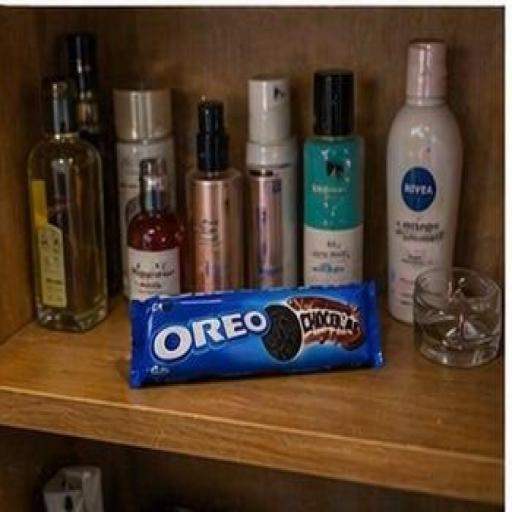oreo: (80, 251, 410, 428)
